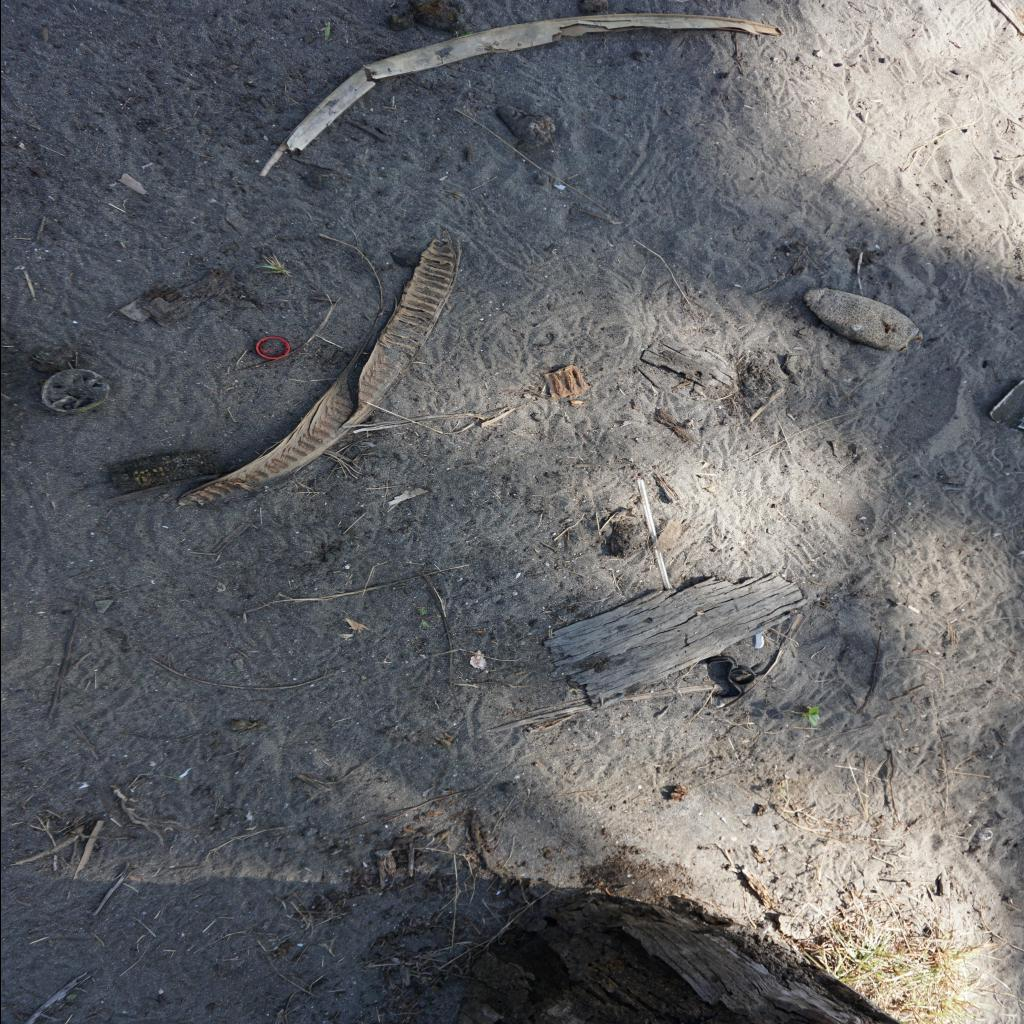Other plastic wrapper: (706, 656, 754, 700), (753, 630, 765, 648)
Plastic bottle cap: (254, 336, 288, 360)
Plastic straw: (636, 479, 670, 590)
